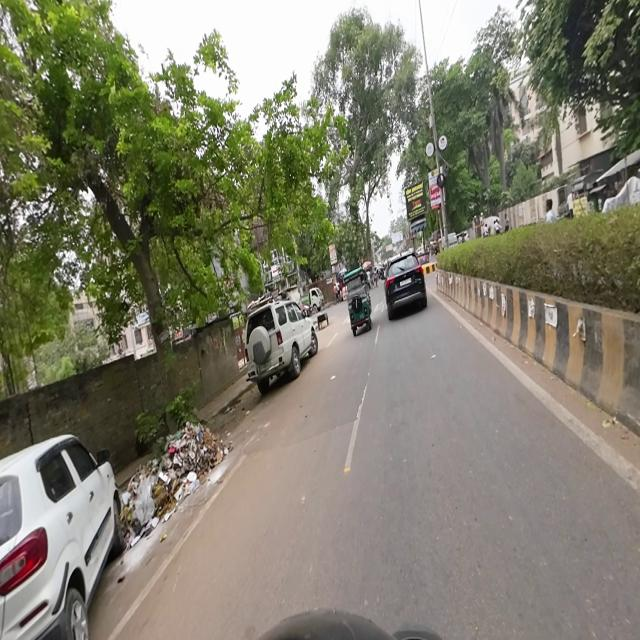Garbage: (172, 424, 228, 500), (124, 456, 169, 550)
